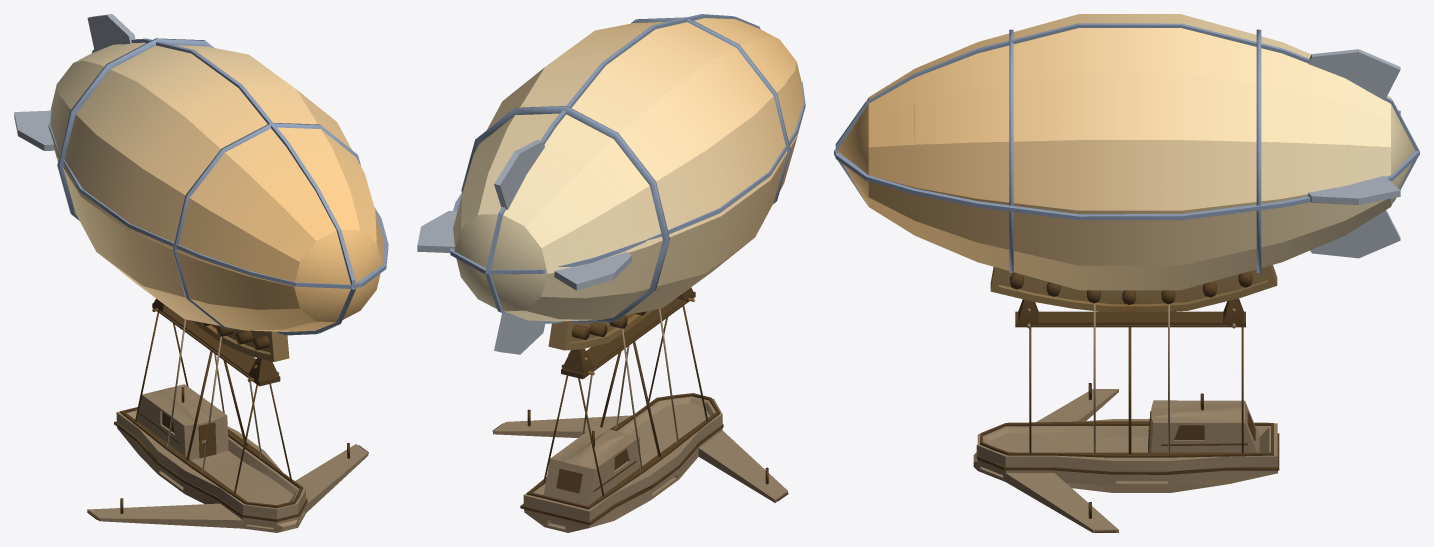
The model's file is AirShip.fbx.
3 views of the same model, side by side, from view 1: azimuth 30°, elevation 25°; view 2: azimuth 150°, elevation 25°; view 3: azimuth 270°, elevation 25° (orthographic). The views are drawn at different scales.
Visible parts, largest first — view 1: body; view 2: body; view 3: body.
Part boxes in pixels (x1,y1,x2,y2): body: (14, 14, 388, 532); body: (417, 14, 805, 532); body: (834, 14, 1419, 532).
Bounding box in the file's own units: 2329 × 3527 × 4042.
1 material, 1 textured.
